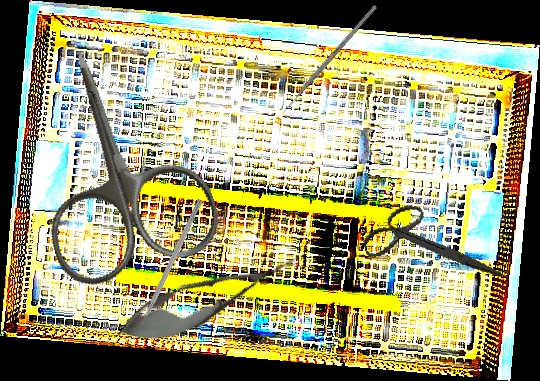Chopper: (128, 195, 203, 336)
Iris Scissors: (1, 28, 228, 294), (358, 189, 503, 305)
Micro Scissor: (107, 237, 308, 359)
Pusher: (277, 4, 378, 119)
